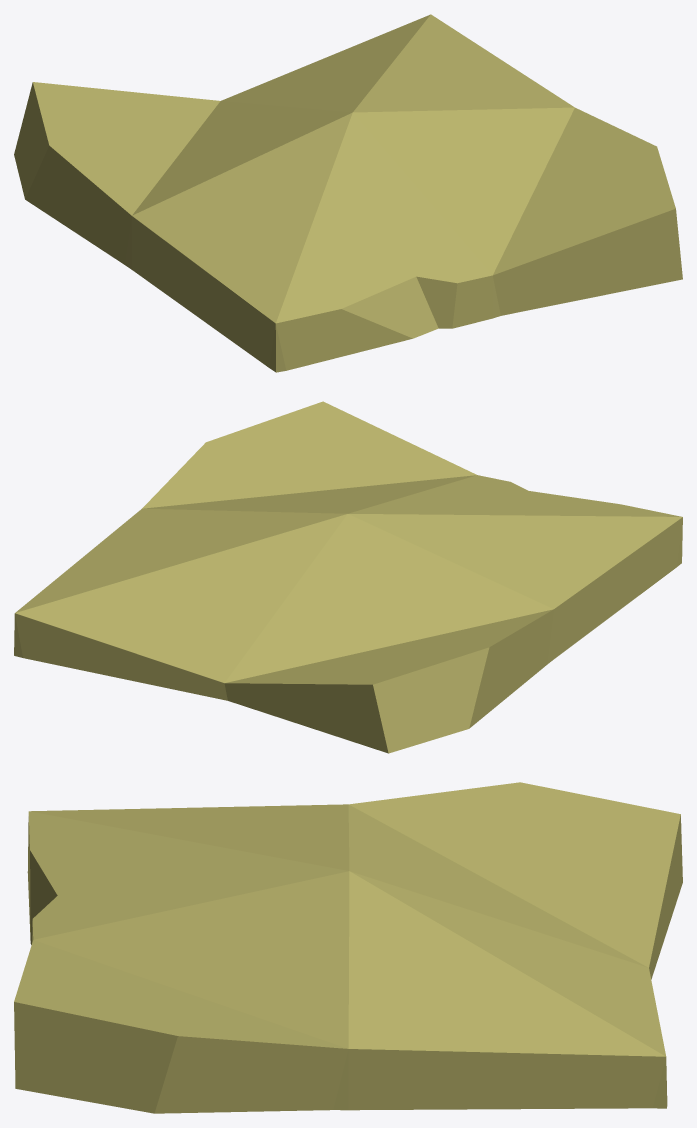
File: Prop_Jungle_Temple_Stepping_Stone_03.FBX
3 renders of one model, top to bottom at view 1: azimuth 30°, elevation 25°; view 2: azimuth 150°, elevation 25°; view 3: azimuth 270°, elevation 25°, orthographic. The views are drawn at different scales.
Parts seen in each view (by area): view 1: Prop_Jungle_Temple_Stepping_Stone_03; view 2: Prop_Jungle_Temple_Stepping_Stone_03; view 3: Prop_Jungle_Temple_Stepping_Stone_03.
Part boxes in pixels (bbox=[...]): Prop_Jungle_Temple_Stepping_Stone_03: bbox=[14, 14, 682, 372]; Prop_Jungle_Temple_Stepping_Stone_03: bbox=[14, 401, 682, 753]; Prop_Jungle_Temple_Stepping_Stone_03: bbox=[14, 782, 682, 1113].
Size of the model in its own units: 818 by 176 by 915.
